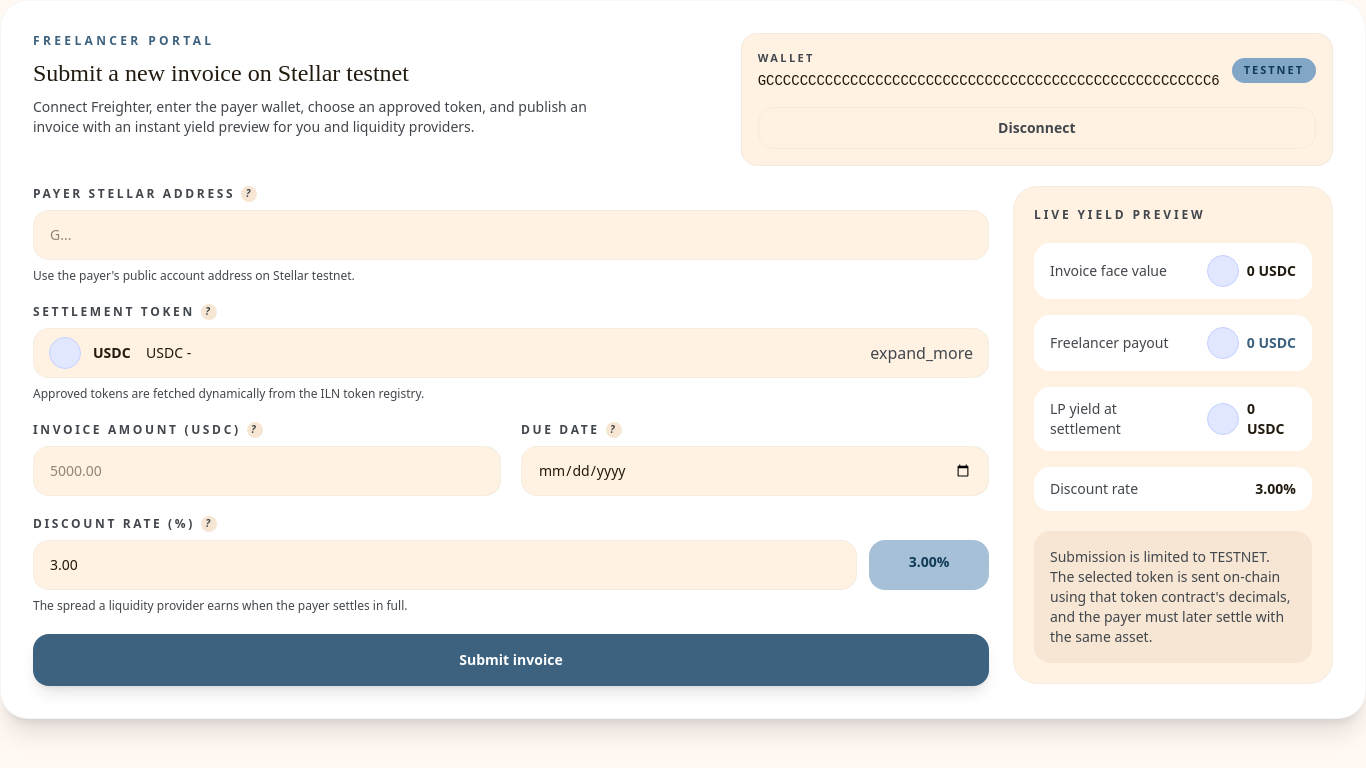
Test: SubmitInvoiceForm › rejects a non-numeric invoice amount
Type "not-a-number" into the field with placeholder "5000.00".
click(267, 470); type("not-a-number")  # box [33,446,501,496]
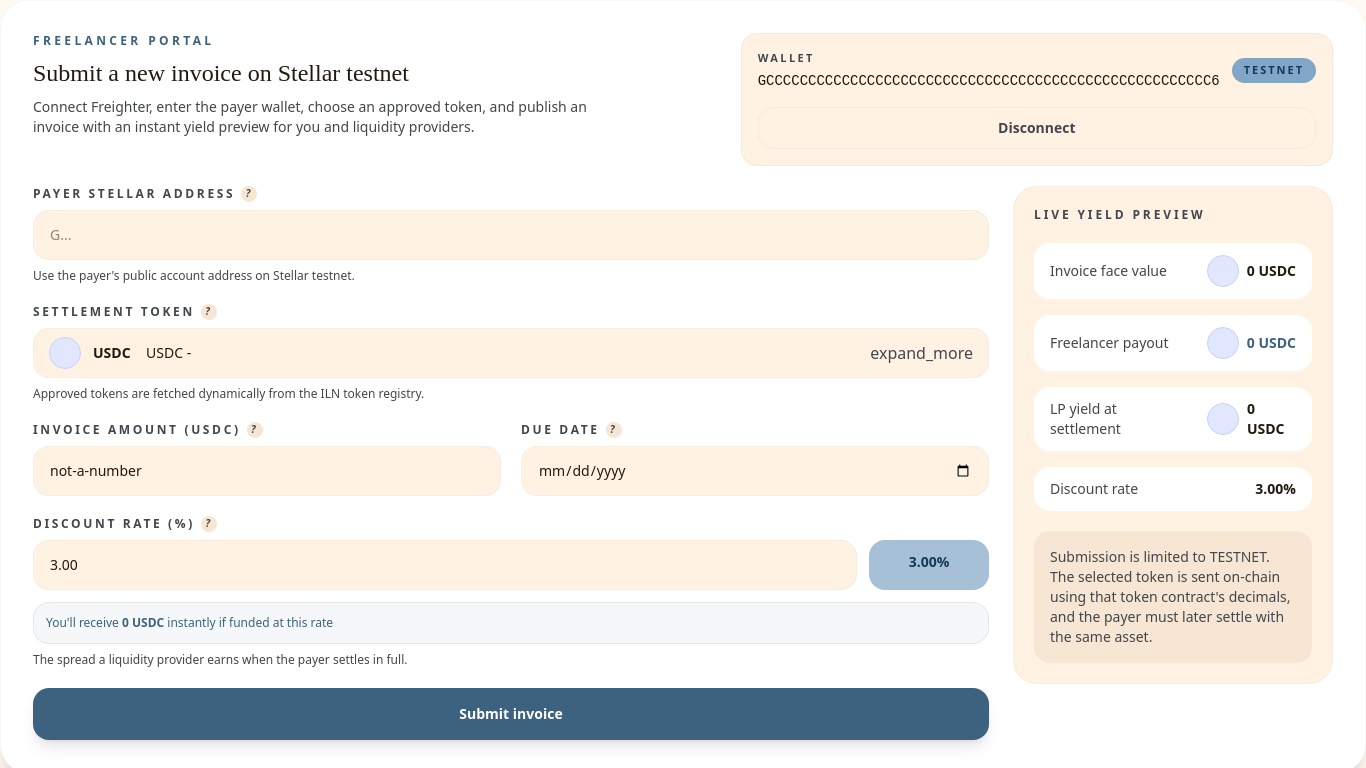
Click the button "Submit invoice".
click(511, 714)  # box [33,688,989,740]
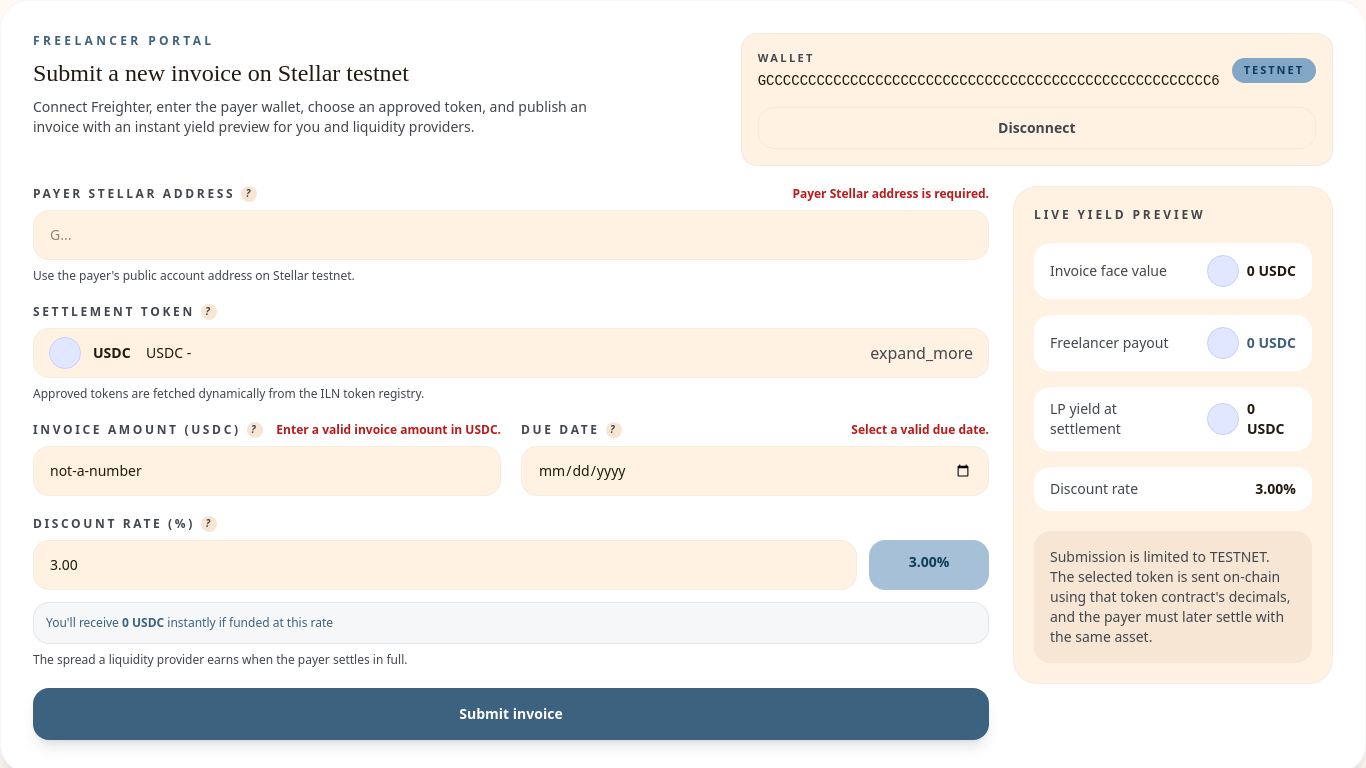
Result: the text "Enter a valid invoice amount in USDC." is shown at [276,422,501,438]
